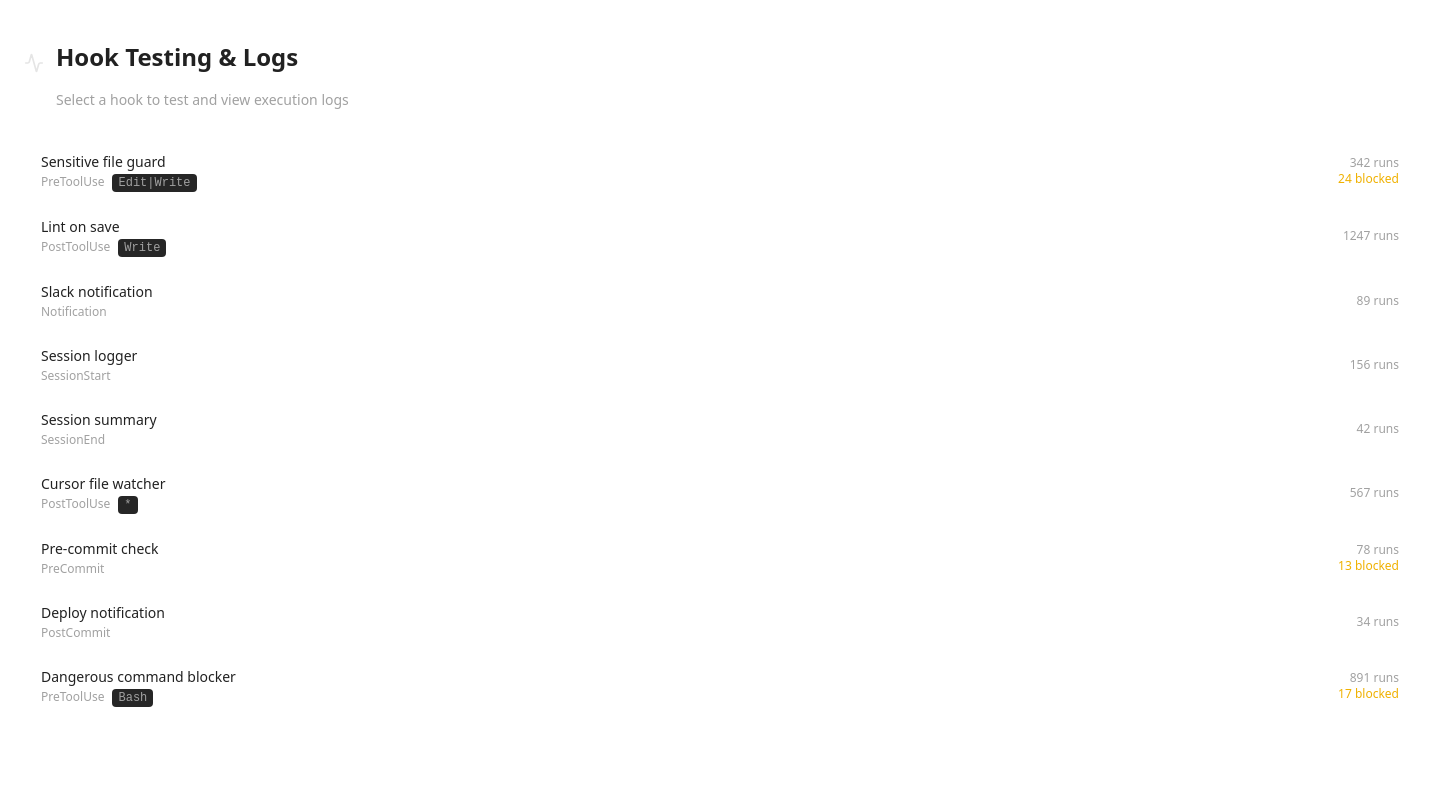
Test: HookTestingPage › should navigate to hook detail when clicked
Click the text "Sensitive file guard" at (103, 161), box [41,152,166,171]
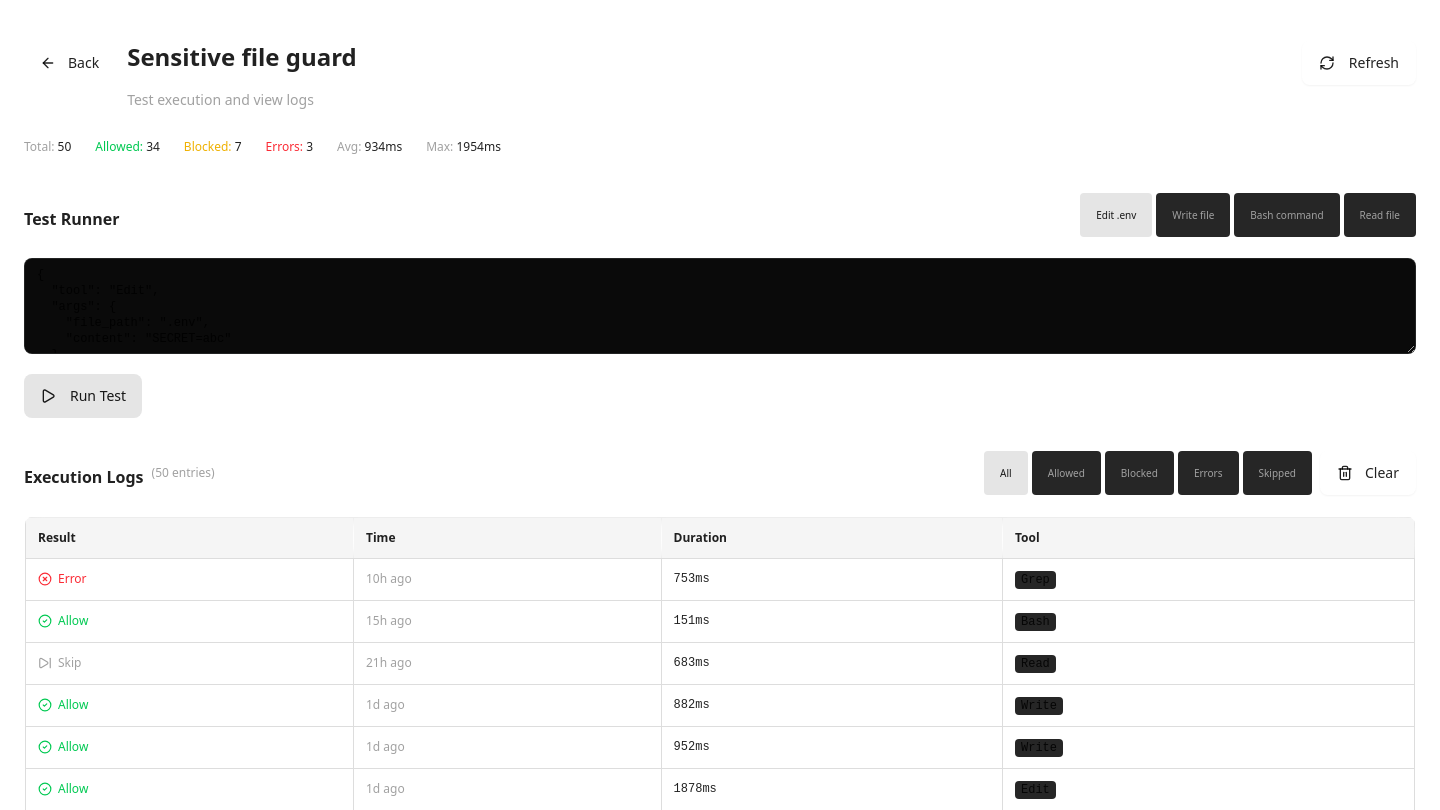
Expected: the heading "Execution Logs" is shown, [24,466,144,488]
Result: the heading "Test Runner" is shown at [24,208,120,230]
